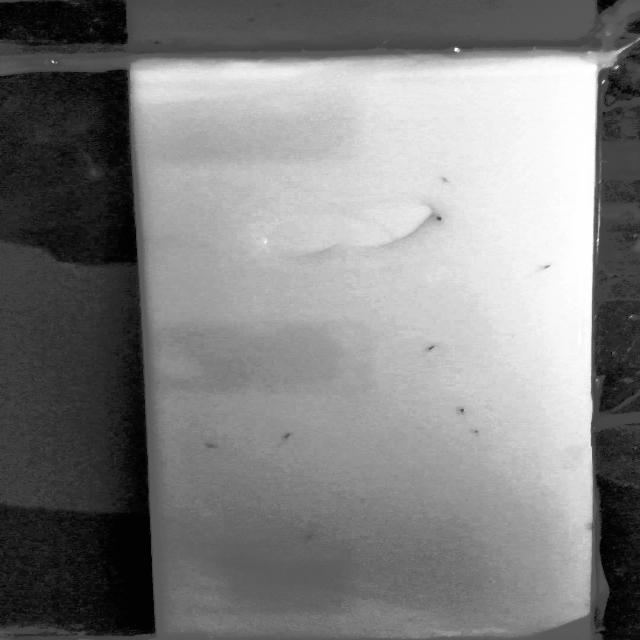shrimp: (198, 440, 220, 450), (302, 532, 320, 544), (536, 264, 556, 272), (280, 433, 297, 441), (433, 215, 448, 224), (456, 407, 470, 415), (422, 343, 439, 349), (470, 428, 482, 435), (438, 176, 451, 182)
